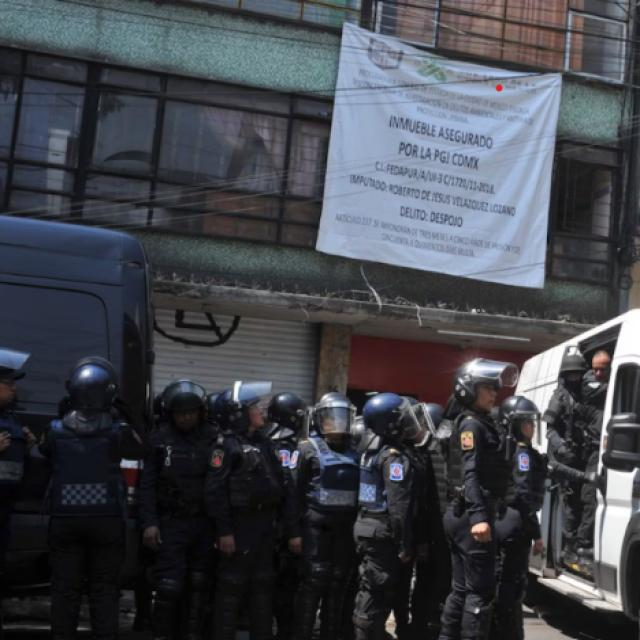stamps: (316, 25, 562, 287)
